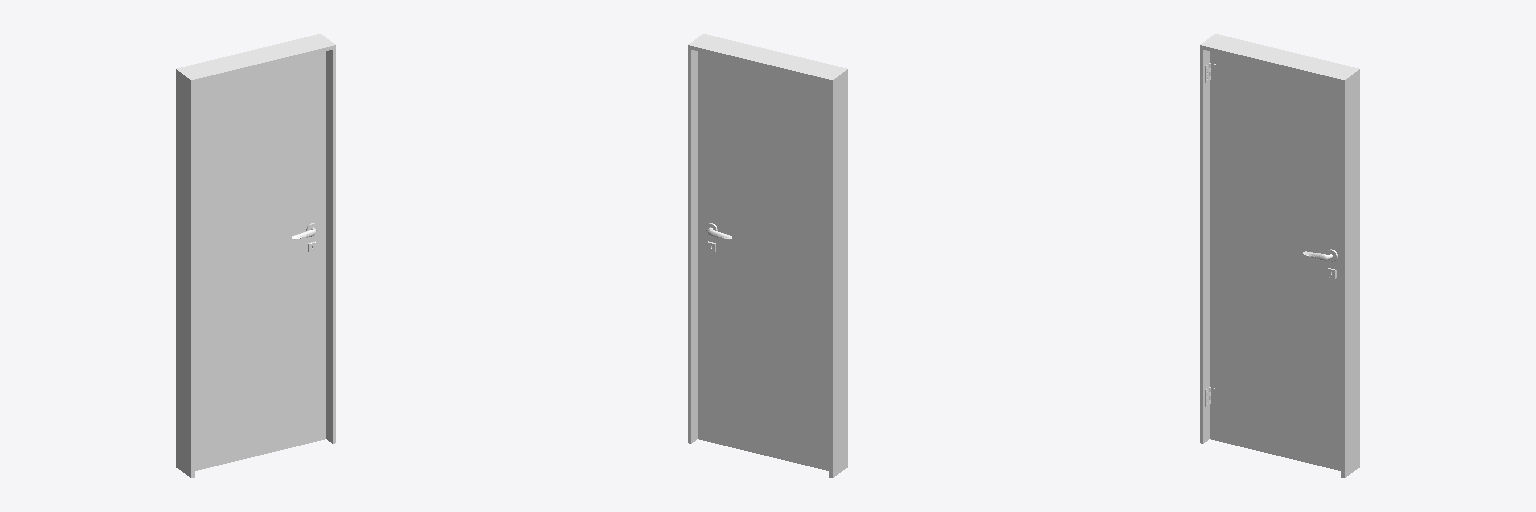
File: door.obj
3 renders of one model, left to right at view 1: azimuth 30°, elevation 25°; view 2: azimuth 150°, elevation 25°; view 3: azimuth 330°, elevation 25°, orthographic.
Parts seen in each view (by area): view 1: Group_002, Group_001; view 2: Group_002, Group_001; view 3: Group_002, Group_001.
Boxes of the visible parts, x1=… form: Group_002: x1=195, y1=51, x2=325, y2=470; Group_001: x1=176, y1=34, x2=335, y2=477; Group_002: x1=698, y1=51, x2=828, y2=470; Group_001: x1=688, y1=34, x2=847, y2=477; Group_002: x1=1210, y1=51, x2=1340, y2=470; Group_001: x1=1200, y1=34, x2=1359, y2=477.
Size of the model in its own units: 31.5 by 82.68 by 5.91.